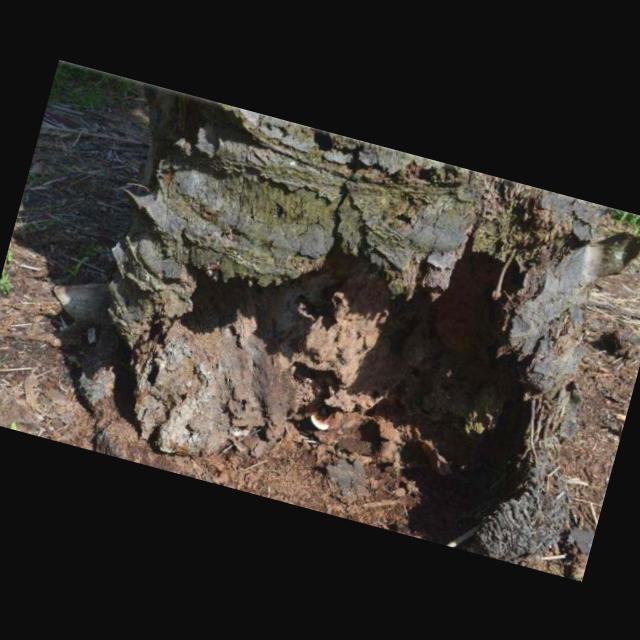ganoderma: (308, 407, 335, 432)
